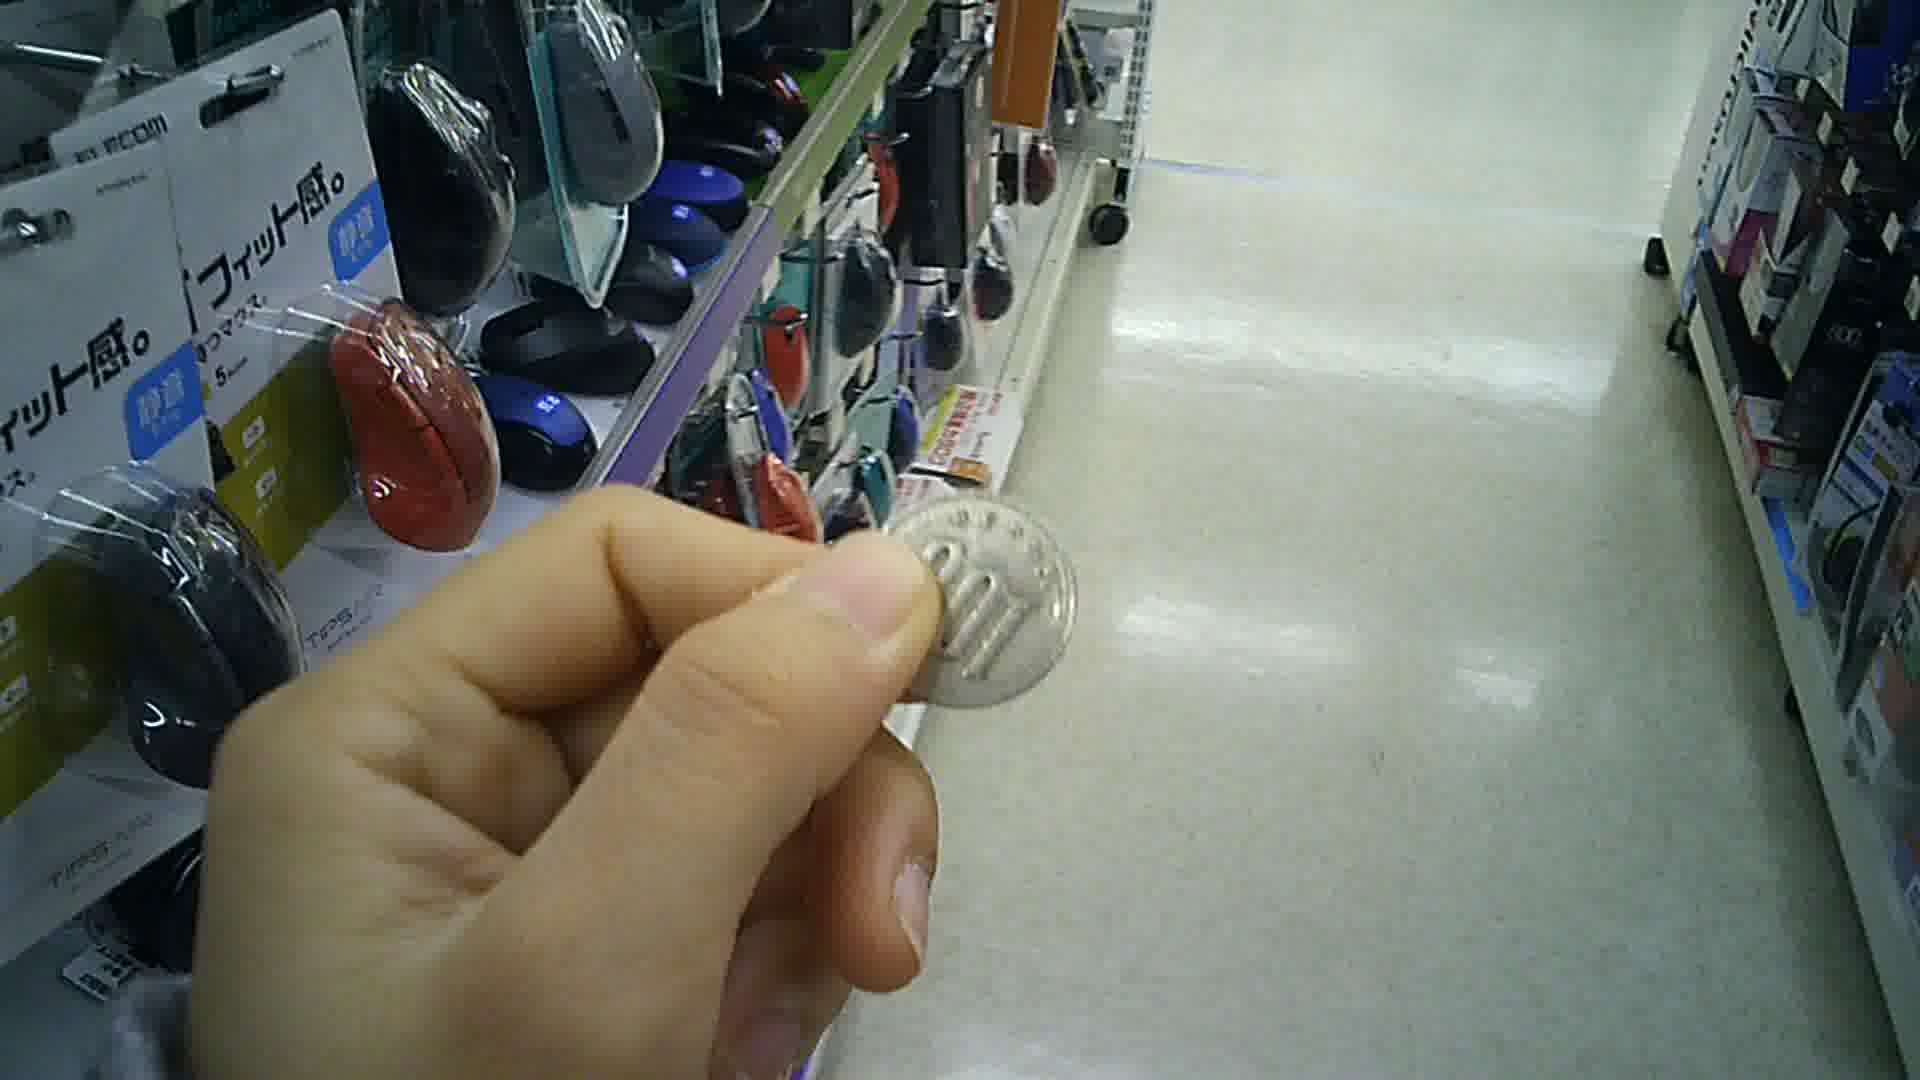100 Yen: (865, 488, 1077, 713)
